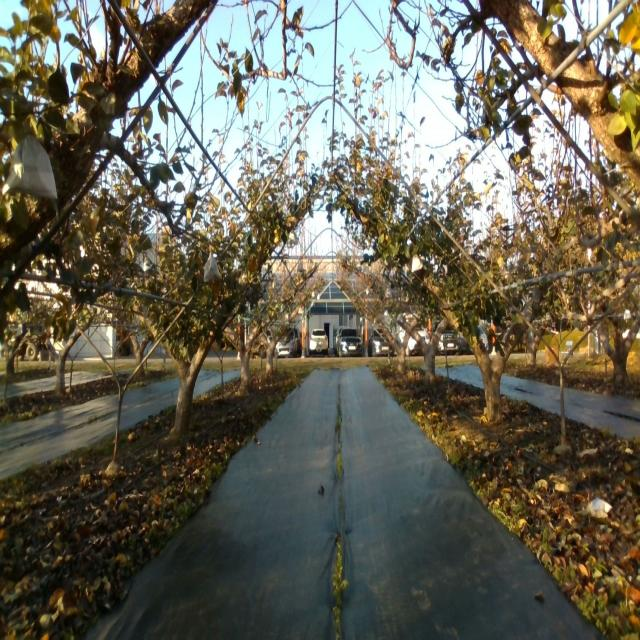pearbags: (2, 135, 58, 200), (204, 254, 221, 283), (411, 254, 423, 274)
